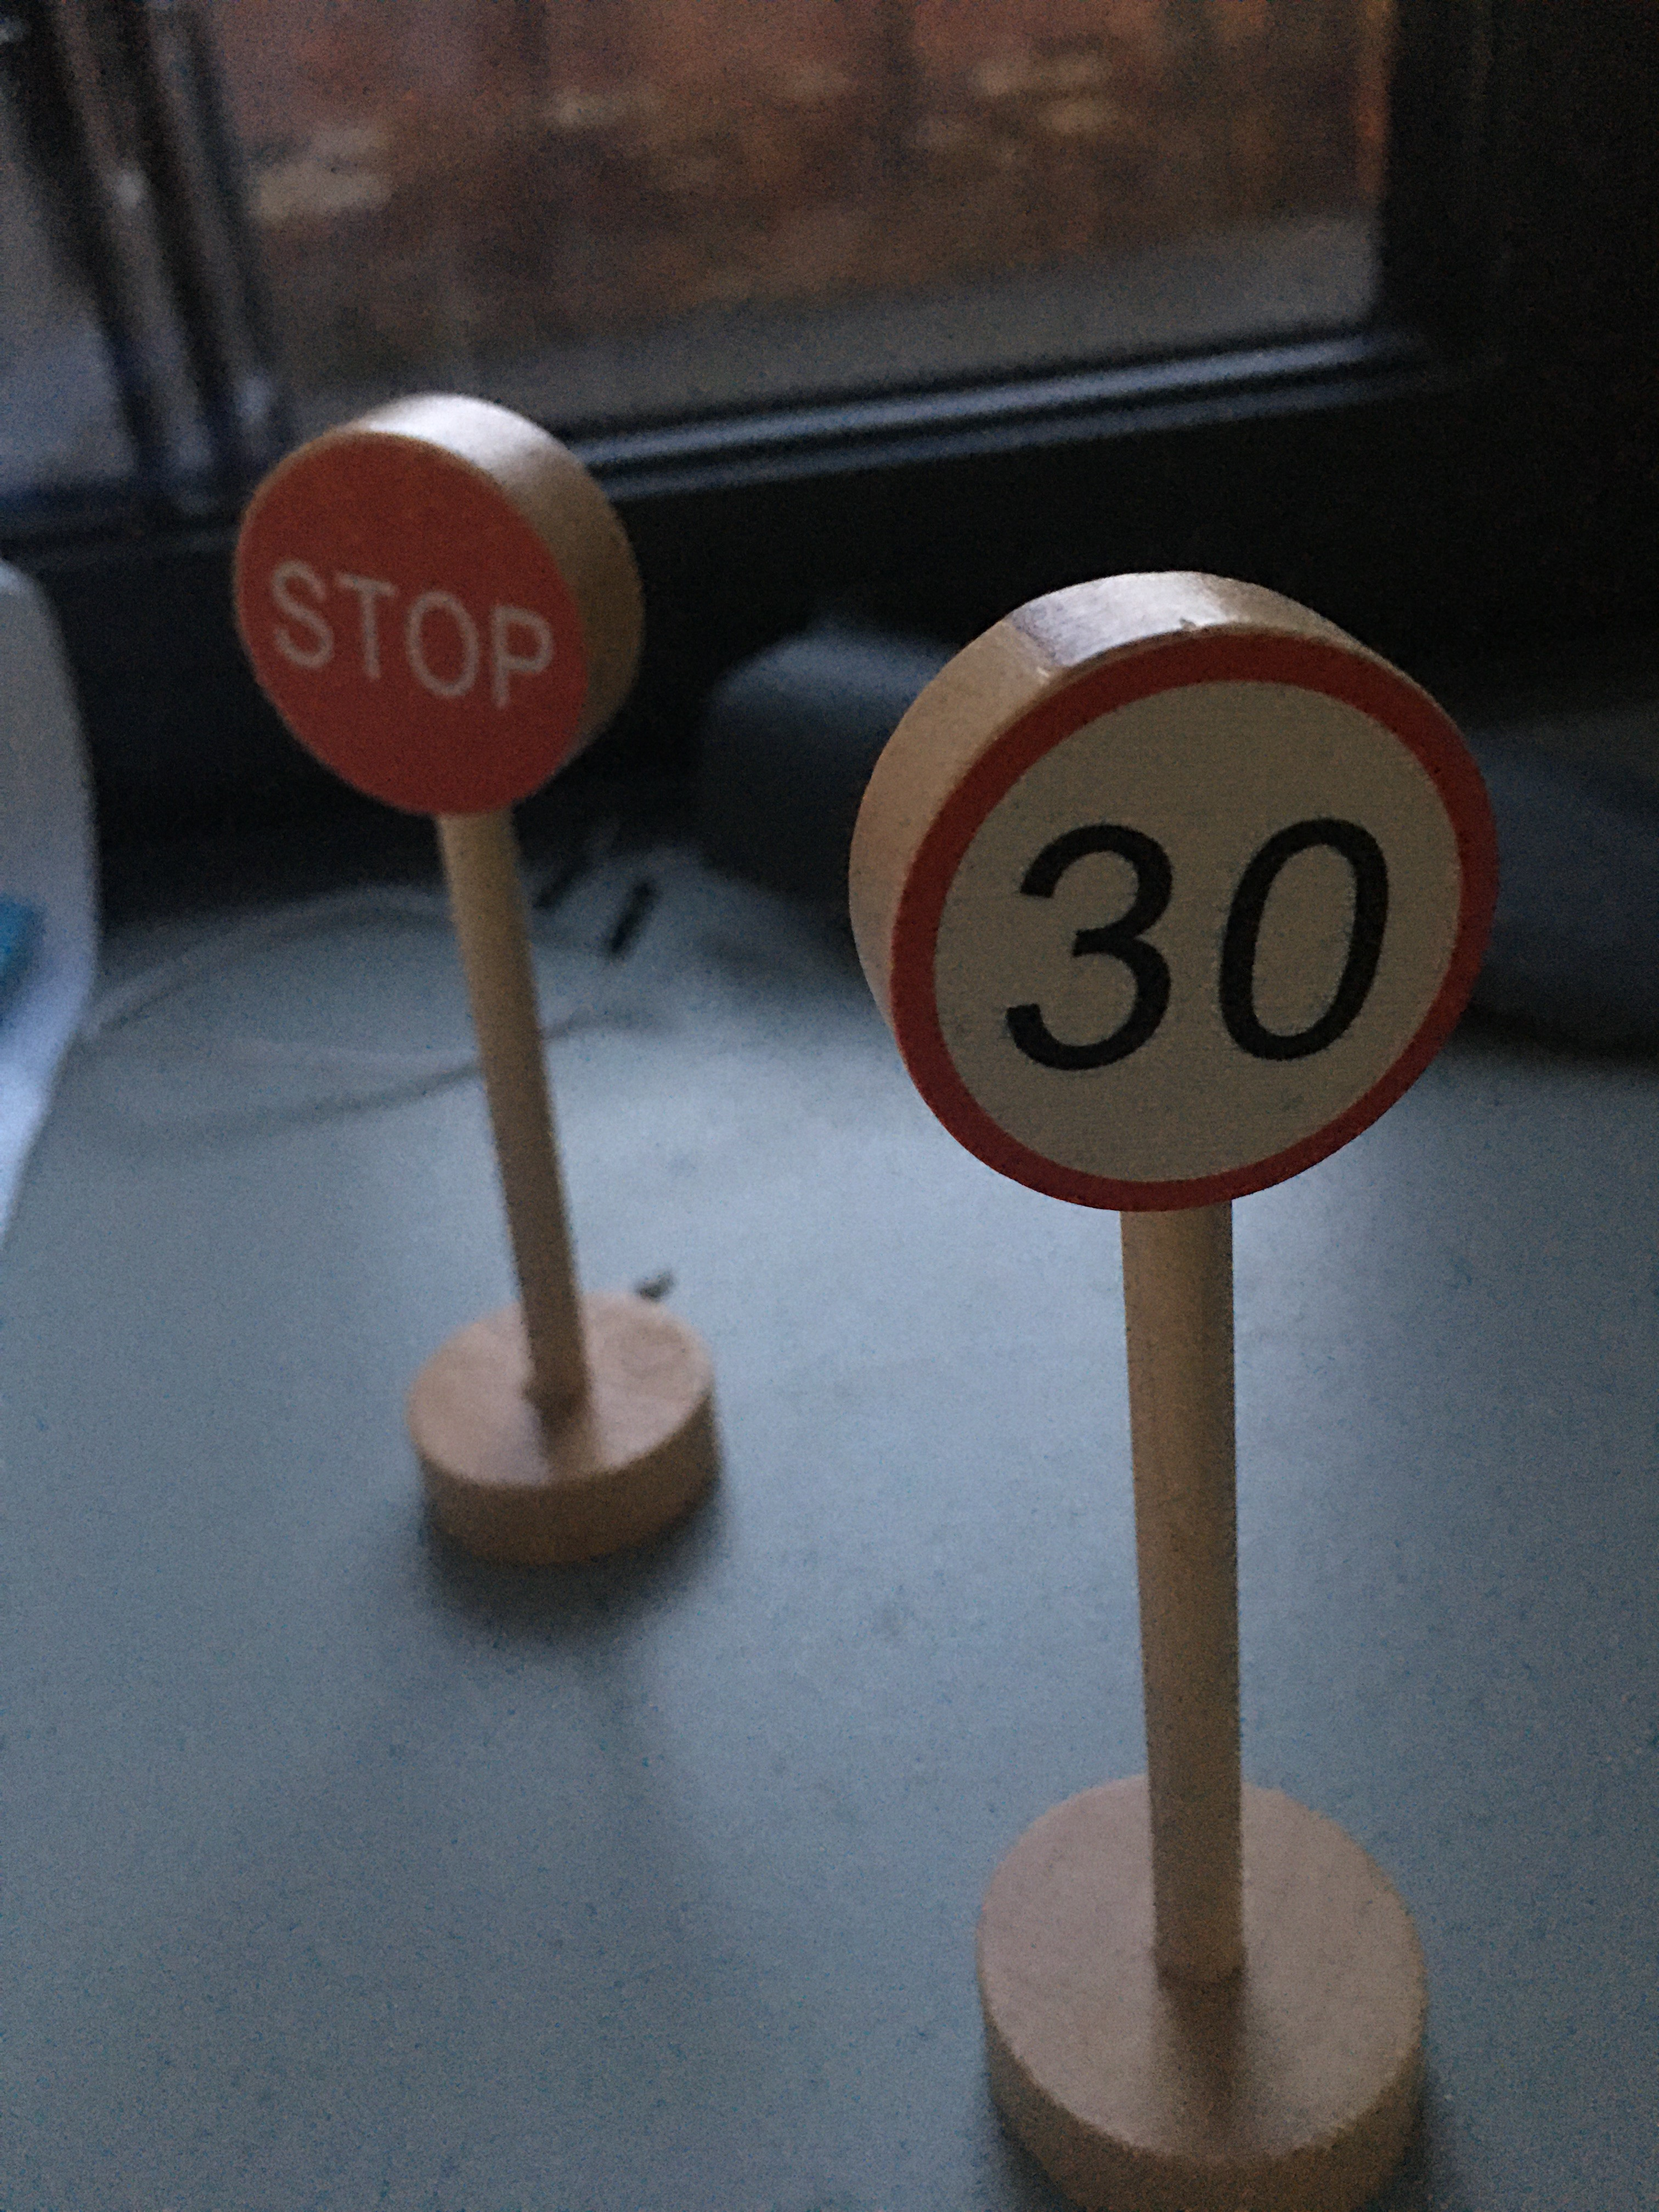Traffic_Sign_30: (899, 652, 1499, 1198)
Traffic_Sign_Stop: (230, 425, 596, 807)
